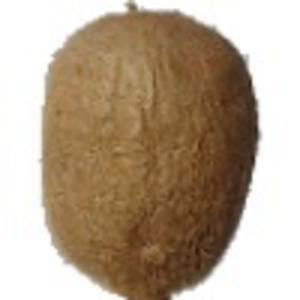kiwi: (39, 1, 261, 300)
